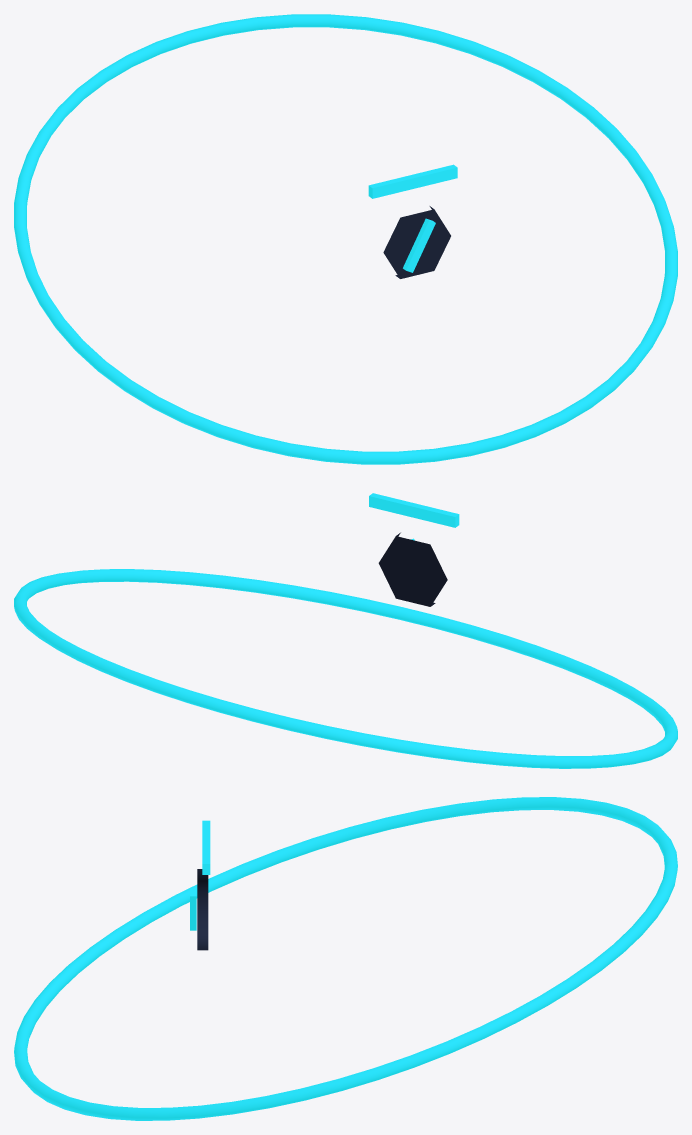
Rendered from avatar-aurora-kit-explorador.glb.
3 views of the same model, one above another, from view 1: azimuth 30°, elevation 25°; view 2: azimuth 150°, elevation 25°; view 3: azimuth 270°, elevation 25° (orthographic). The views are drawn at different scales.
Parts seen in each view (by area): view 1: kit_aurora_explorador_ring, kit_aurora_explorador_compassDisc, kit_aurora_explorador_visorBar, kit_aurora_explorador_compassNeedle; view 2: kit_aurora_explorador_ring, kit_aurora_explorador_compassDisc, kit_aurora_explorador_visorBar; view 3: kit_aurora_explorador_ring, kit_aurora_explorador_compassDisc, kit_aurora_explorador_visorBar.
Boxes of the visible parts, box(x1,y1,x2,y2) form: kit_aurora_explorador_ring: box(14, 14, 677, 464); kit_aurora_explorador_compassDisc: box(383, 206, 450, 278); kit_aurora_explorador_visorBar: box(368, 164, 457, 198); kit_aurora_explorador_compassNeedle: box(403, 218, 435, 272); kit_aurora_explorador_ring: box(14, 569, 677, 768); kit_aurora_explorador_compassDisc: box(378, 532, 447, 606); kit_aurora_explorador_visorBar: box(369, 493, 459, 527); kit_aurora_explorador_ring: box(14, 797, 677, 1120); kit_aurora_explorador_compassDisc: box(197, 869, 208, 950); kit_aurora_explorador_visorBar: box(202, 820, 210, 874).
Size of the model in its own units: 1.02 by 0.349 by 0.9744.
